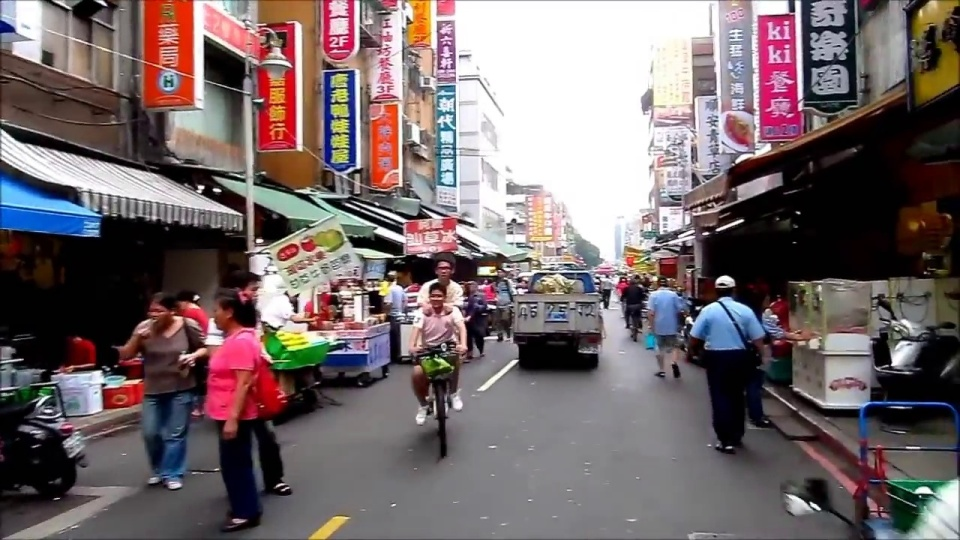person_head: (210, 290, 239, 331), (144, 290, 174, 323), (426, 280, 447, 311), (238, 276, 261, 302), (712, 273, 736, 297), (433, 261, 452, 282), (176, 291, 196, 309), (384, 268, 399, 282), (63, 330, 80, 342), (654, 277, 669, 290), (283, 290, 299, 300), (495, 266, 508, 278), (627, 279, 637, 288)
person_vbox: (114, 289, 208, 490), (200, 285, 267, 532), (230, 274, 298, 498), (689, 272, 771, 456), (406, 280, 465, 429), (414, 261, 464, 405), (639, 276, 687, 379), (173, 291, 210, 416), (259, 288, 320, 337), (379, 267, 405, 366), (51, 330, 96, 377), (464, 279, 487, 365), (490, 264, 513, 344), (620, 279, 645, 336), (598, 271, 613, 310)
